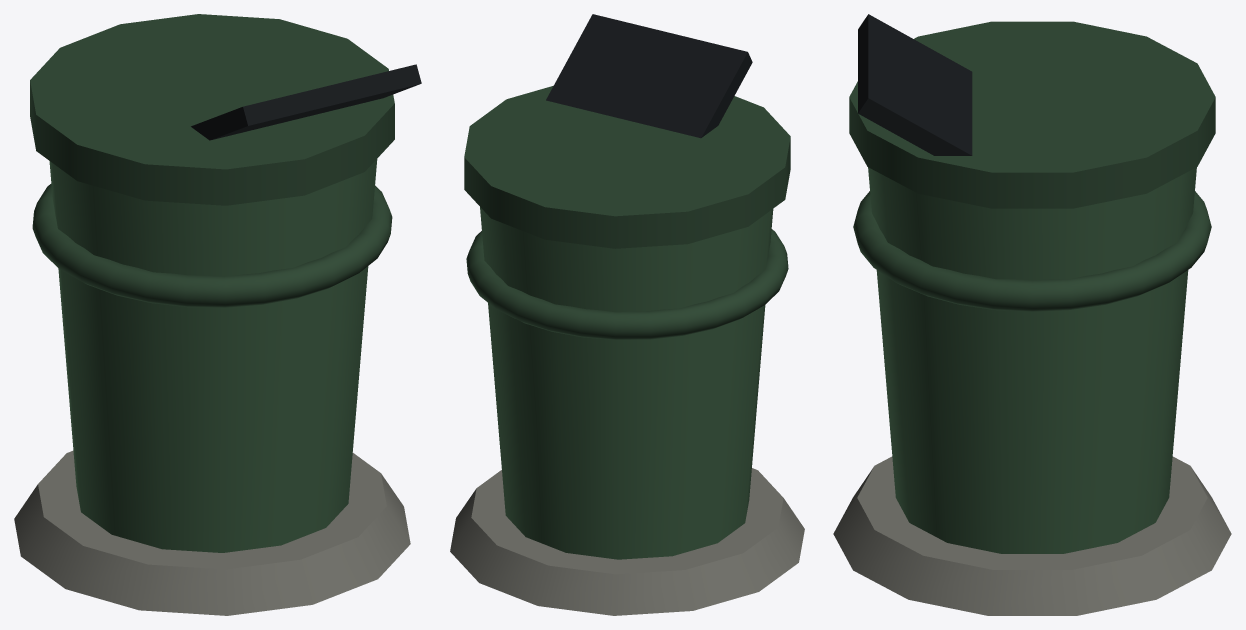
The model's file is trash-bin.glb.
3 views of the same model, side by side, from view 1: azimuth 30°, elevation 25°; view 2: azimuth 150°, elevation 25°; view 3: azimuth 270°, elevation 25° (orthographic). The views are drawn at different scales.
Visible parts, largest first — view 1: trash-bin; view 2: trash-bin; view 3: trash-bin.
Boxes of the visible parts, x1,y1,x2,y2 form: trash-bin: (14, 14, 421, 615); trash-bin: (450, 14, 804, 615); trash-bin: (833, 14, 1231, 615).
Bounding box in the file's own units: 0.9749 × 1.37 × 1.
